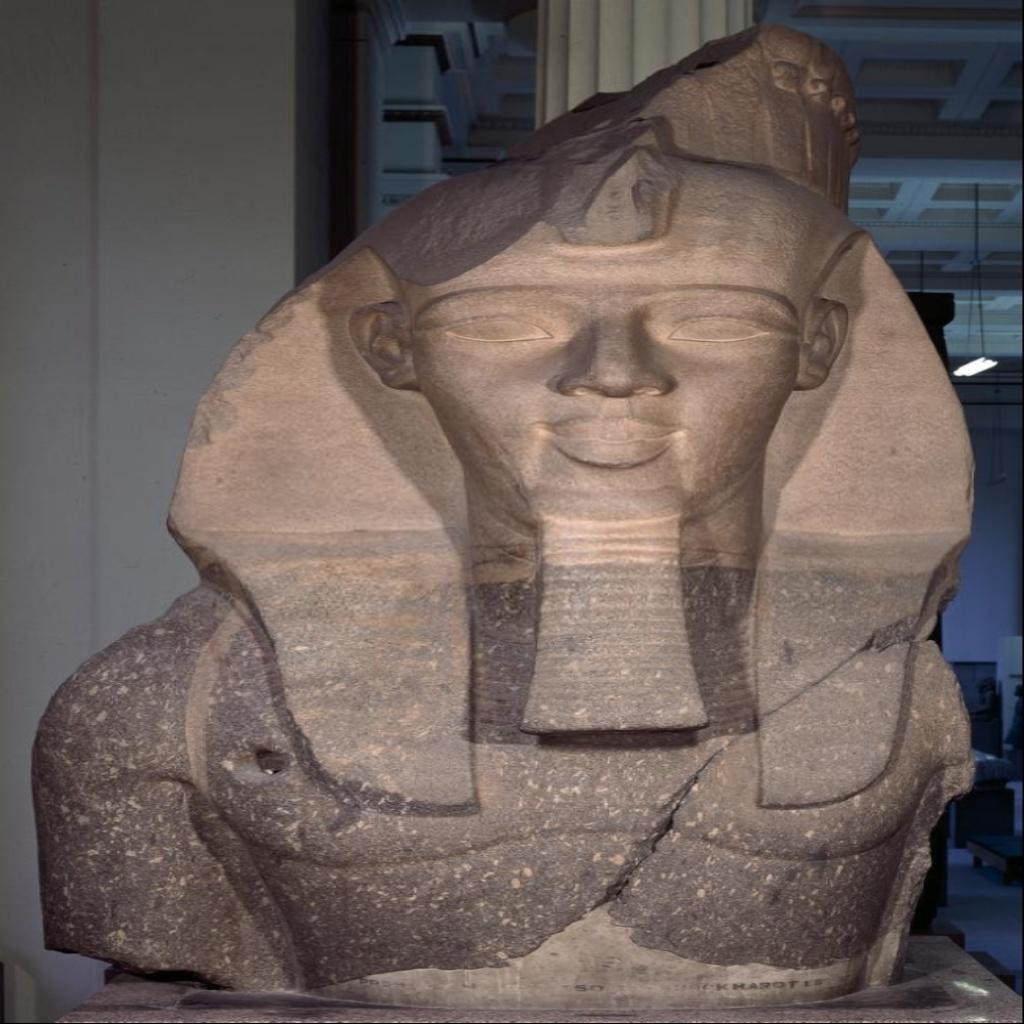bust of Ramesses II: (27, 22, 980, 1010)
